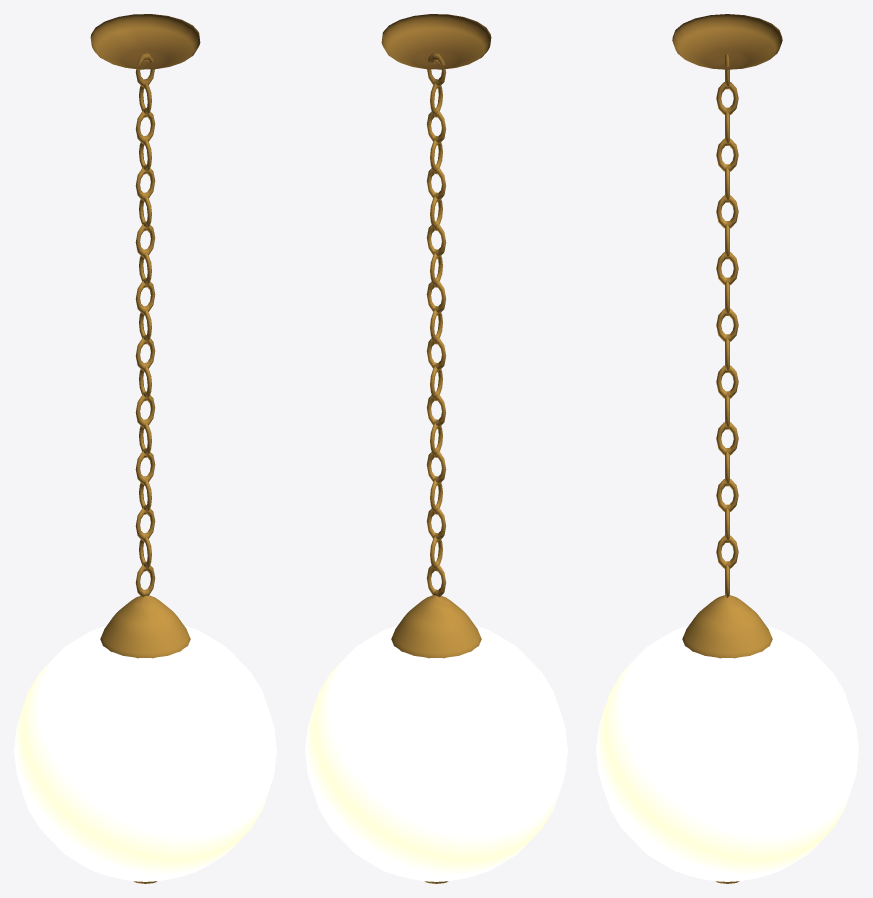
The model's file is lamp_globe_pendant__003.glb.
3 renders of one model, left to right at view 1: azimuth 30°, elevation 25°; view 2: azimuth 150°, elevation 25°; view 3: azimuth 270°, elevation 25°, orthographic.
Visible parts, largest first — view 1: prop_lamp_globe_pendant, merged_toon_C8963C; view 2: prop_lamp_globe_pendant, merged_toon_C8963C; view 3: prop_lamp_globe_pendant, merged_toon_C8963C.
Boxes of the visible parts, left/top/right/bottom form: prop_lamp_globe_pendant: left=14, top=625, right=276, bottom=881; merged_toon_C8963C: left=90, top=14, right=200, bottom=883; prop_lamp_globe_pendant: left=305, top=625, right=567, bottom=881; merged_toon_C8963C: left=381, top=14, right=491, bottom=883; prop_lamp_globe_pendant: left=596, top=626, right=858, bottom=881; merged_toon_C8963C: left=672, top=14, right=782, bottom=883.
Bounding box in the file's own units: 0.42 × 1.48 × 0.42.
